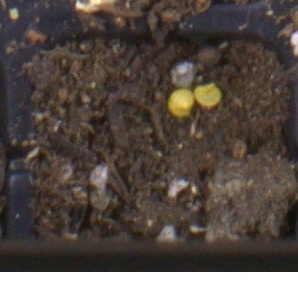chilli seed: (165, 88, 194, 117), (194, 82, 222, 106)
